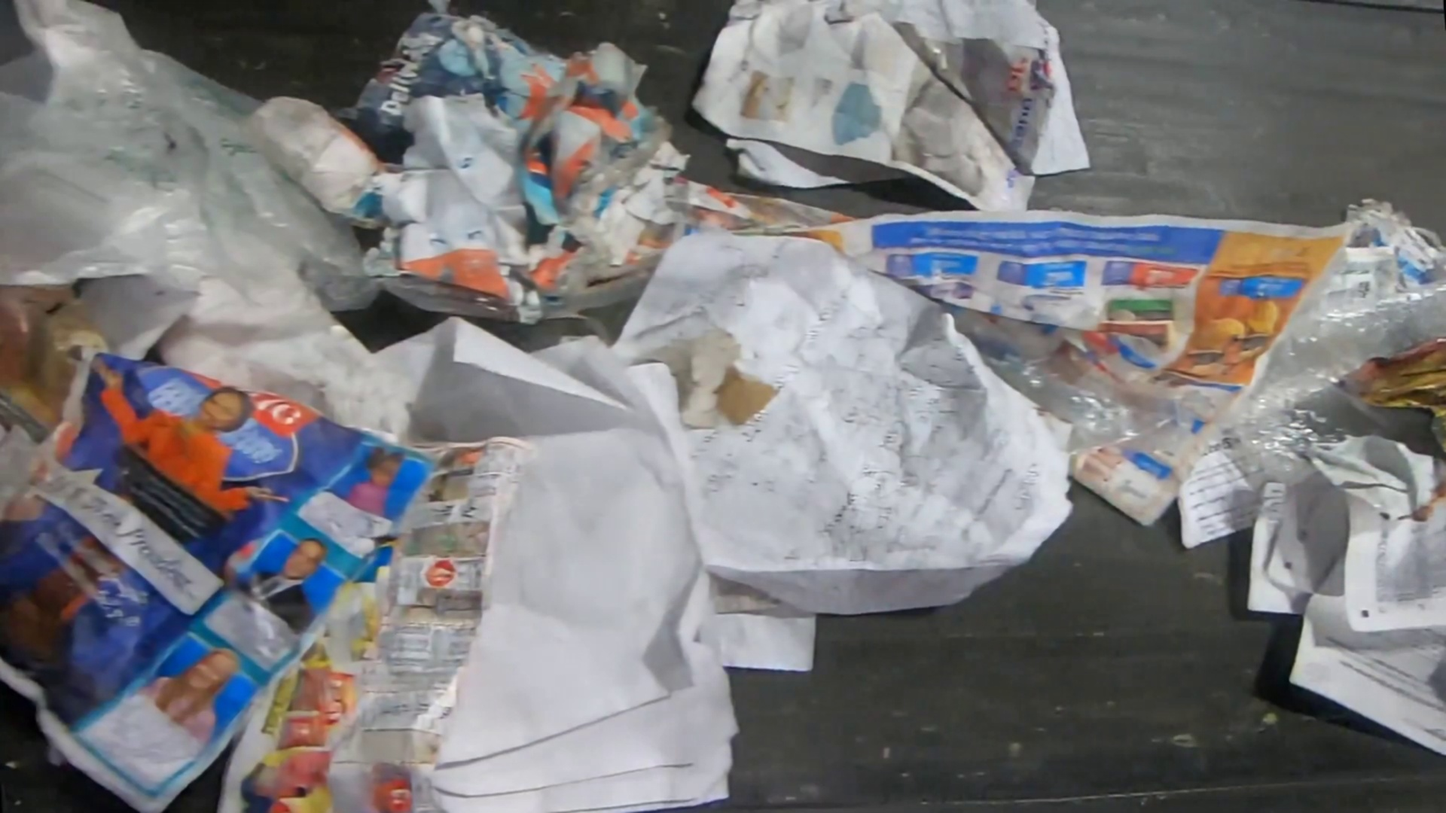cardboard: (243, 11, 711, 328), (0, 284, 115, 444)
plastic: (0, 0, 517, 325), (1215, 254, 1446, 491), (966, 336, 1199, 457), (541, 264, 657, 320)
